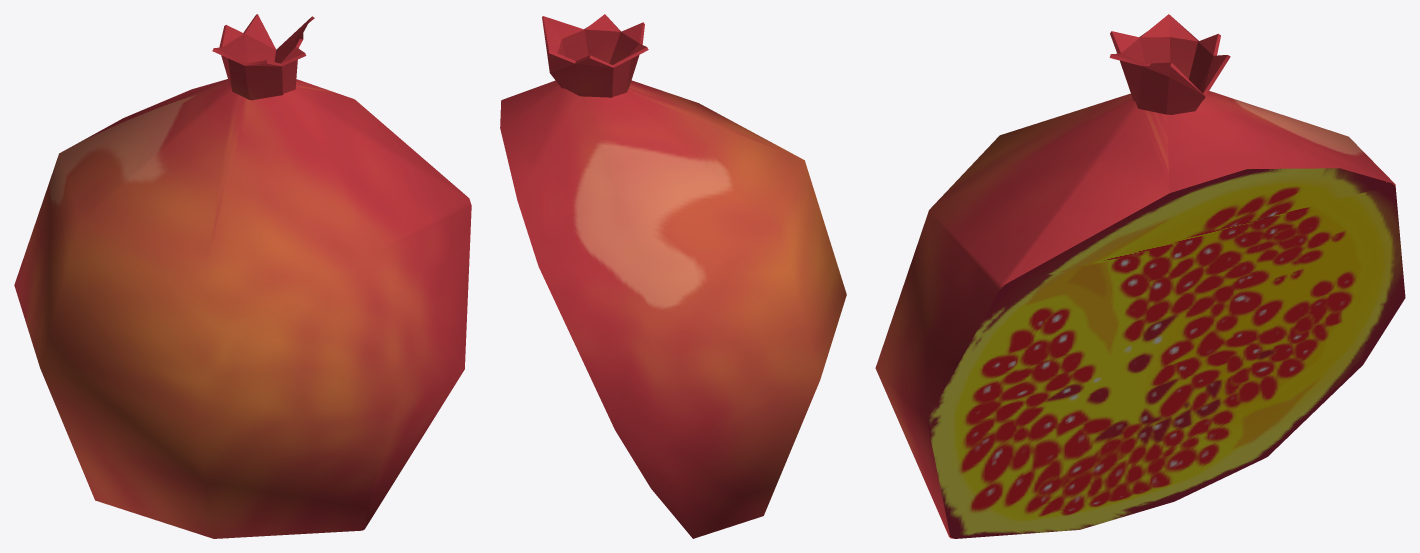
The model's file is Pome1.FBX.
3 views of the same model, side by side, from view 1: azimuth 30°, elevation 25°; view 2: azimuth 150°, elevation 25°; view 3: azimuth 270°, elevation 25° (orthographic). The views are drawn at different scales.
Parts seen in each view (by area): view 1: Pomegranate Slice1; view 2: Pomegranate Slice1; view 3: Pomegranate Slice1.
Part boxes in pixels (x1,y1,x2,y2): Pomegranate Slice1: (14, 14, 471, 538); Pomegranate Slice1: (500, 14, 846, 538); Pomegranate Slice1: (875, 14, 1405, 538).
Bounding box in the file's own units: 6.83 × 8.47 × 7.62.
